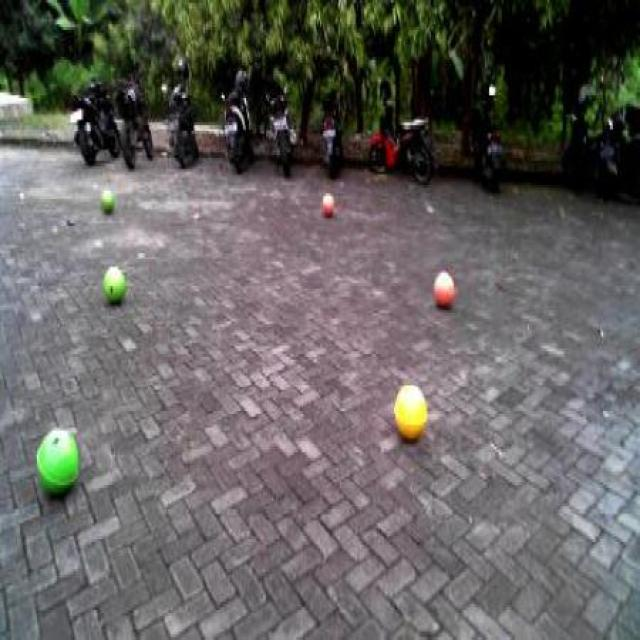buoy: (28, 414, 86, 509), (391, 371, 431, 448), (96, 254, 130, 308), (430, 261, 460, 314)
